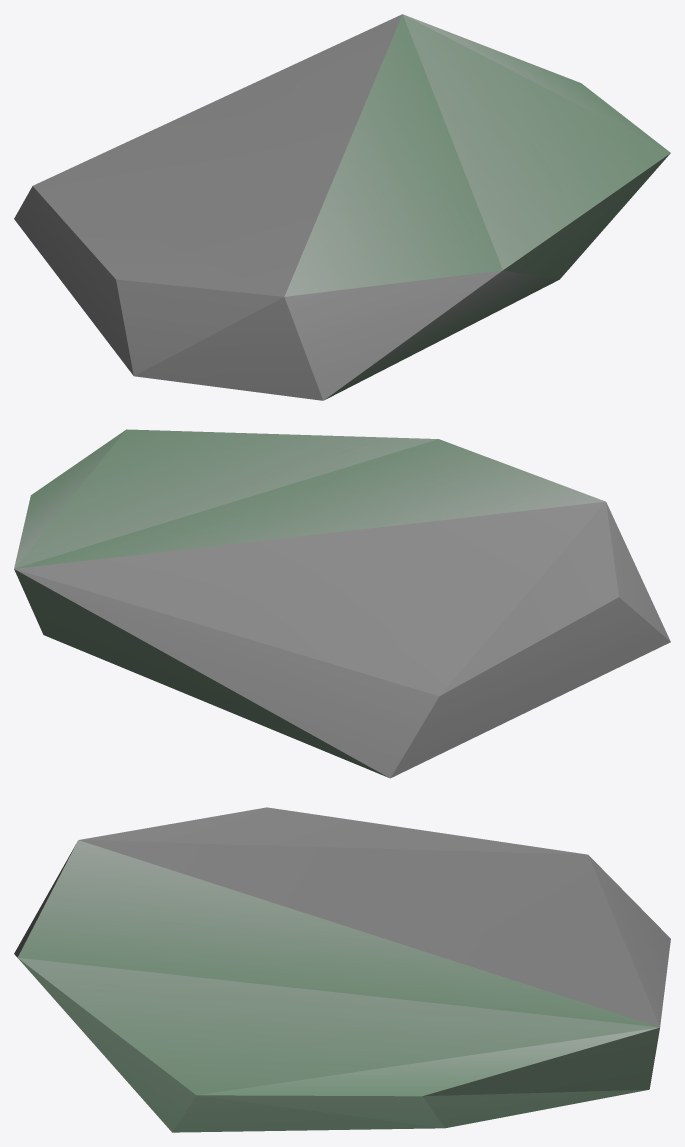
Rendered from rock_small_flat_mossy.fbx.
3 views of the same model, one above another, from view 1: azimuth 30°, elevation 25°; view 2: azimuth 150°, elevation 25°; view 3: azimuth 270°, elevation 25° (orthographic). The views are drawn at different scales.
Parts seen in each view (by area): view 1: rock_small_flat_mossy; view 2: rock_small_flat_mossy; view 3: rock_small_flat_mossy.
Part boxes in pixels (left/top/right/bottom): rock_small_flat_mossy: left=14, top=14, right=670, bottom=400; rock_small_flat_mossy: left=14, top=429, right=670, bottom=778; rock_small_flat_mossy: left=14, top=807, right=670, bottom=1132.
Size of the model in its own units: 0.35 by 0.07 by 0.3.
1 material, 1 textured.
